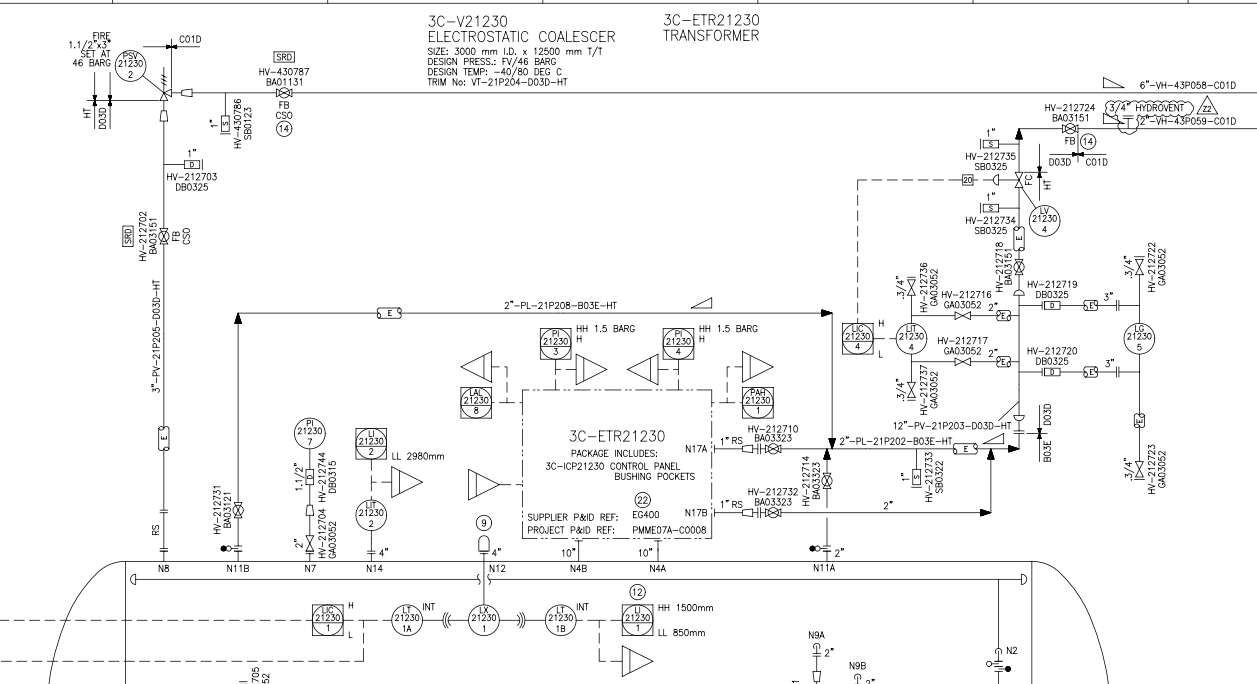Instrument: (1025, 198, 1068, 240), (892, 317, 930, 357), (292, 409, 328, 451), (466, 600, 503, 640), (1119, 320, 1158, 357), (353, 496, 390, 533), (388, 601, 425, 637), (543, 602, 578, 639), (113, 47, 148, 84)
Instrument-square: (736, 384, 779, 423), (307, 600, 347, 639), (658, 324, 697, 363), (837, 319, 877, 357), (536, 324, 574, 364), (458, 383, 496, 423), (619, 601, 657, 640), (354, 424, 389, 463)
